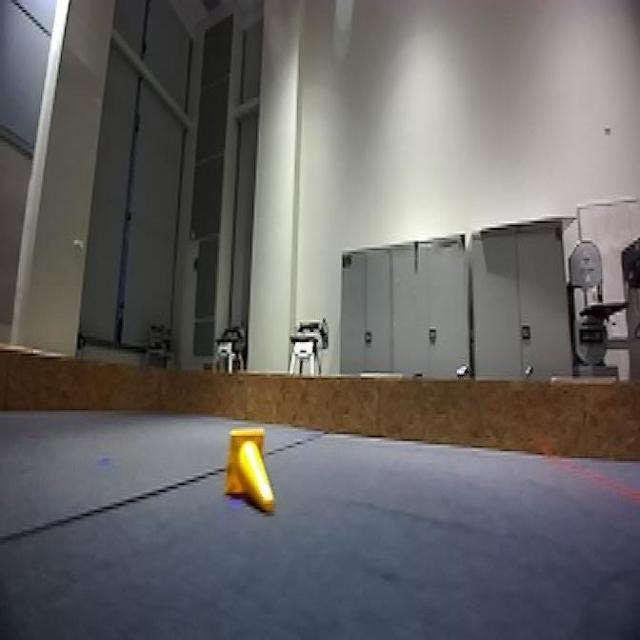frc_cone: (225, 426, 279, 512)
